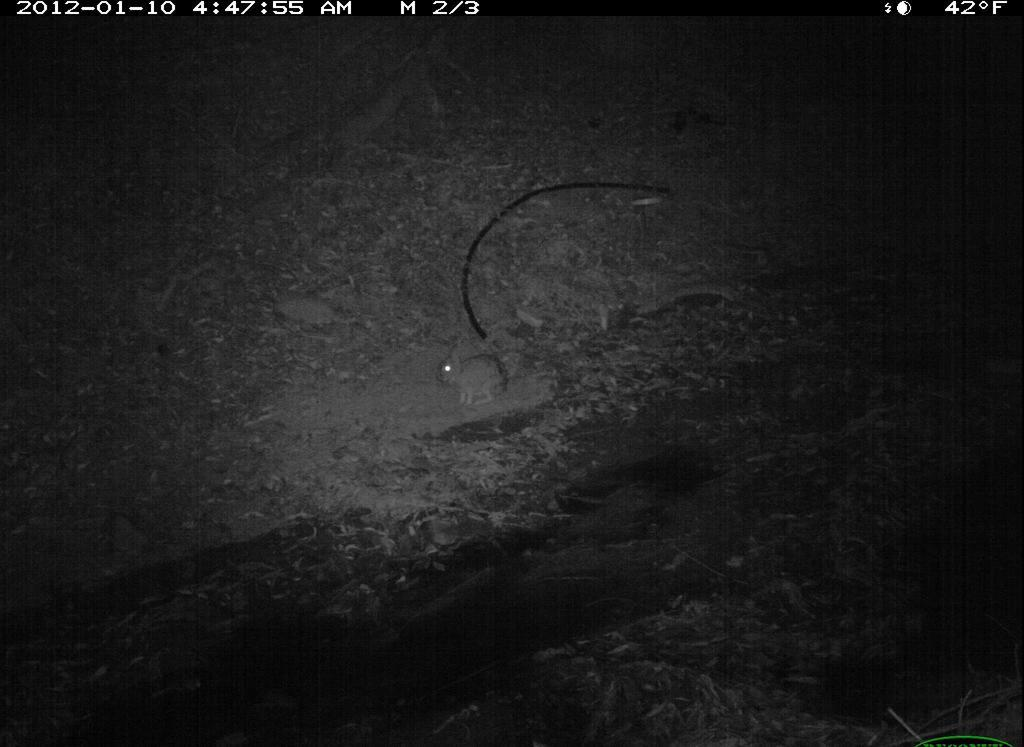rabbit: (428, 341, 517, 418)
